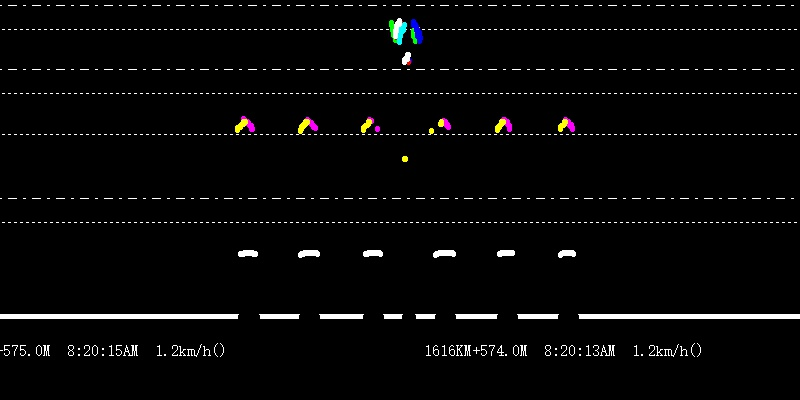J: (385, 1, 424, 65)
y_p: (223, 107, 582, 279)
